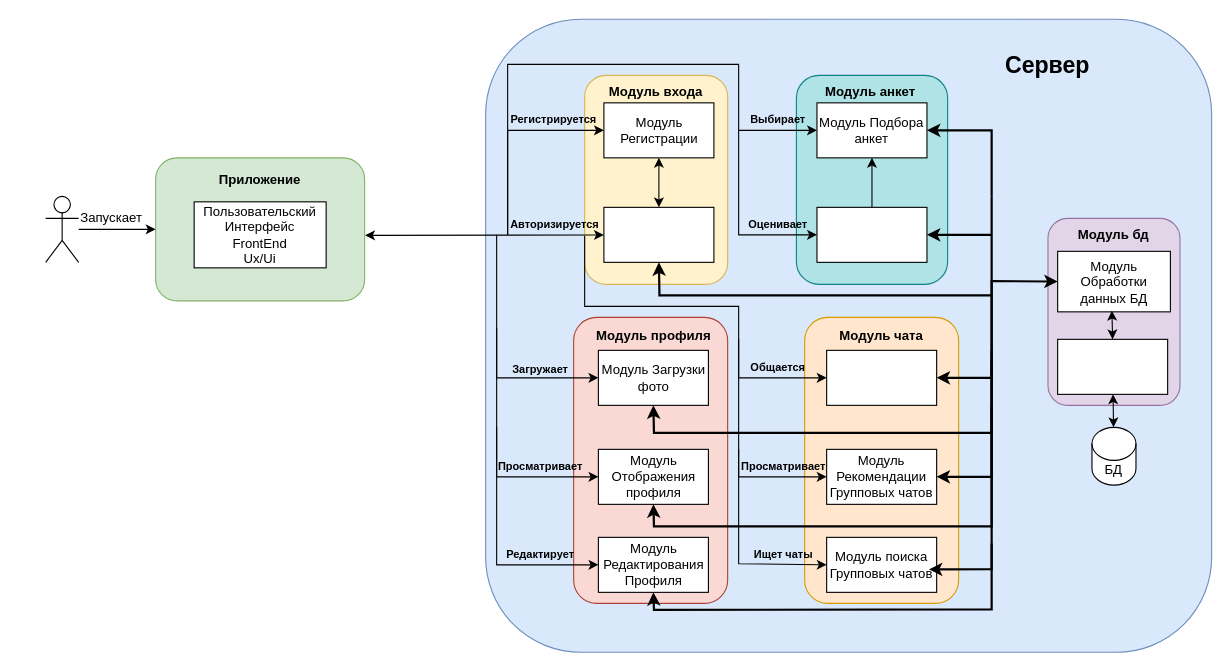
Image size: 1231x672. Some labels were removed from this diagram. The shapes that lost their labels are listed below. From the top down, each one's centre as x and y in pixels, then its label:
the point at 62,228: Пользователь
the point at 658,234: Модуль Авторизации
the point at 871,234: Модуль Оценки анкет
the point at 881,377: Модуль Чатов
the point at 1112,366: Модуль доступа к БД
